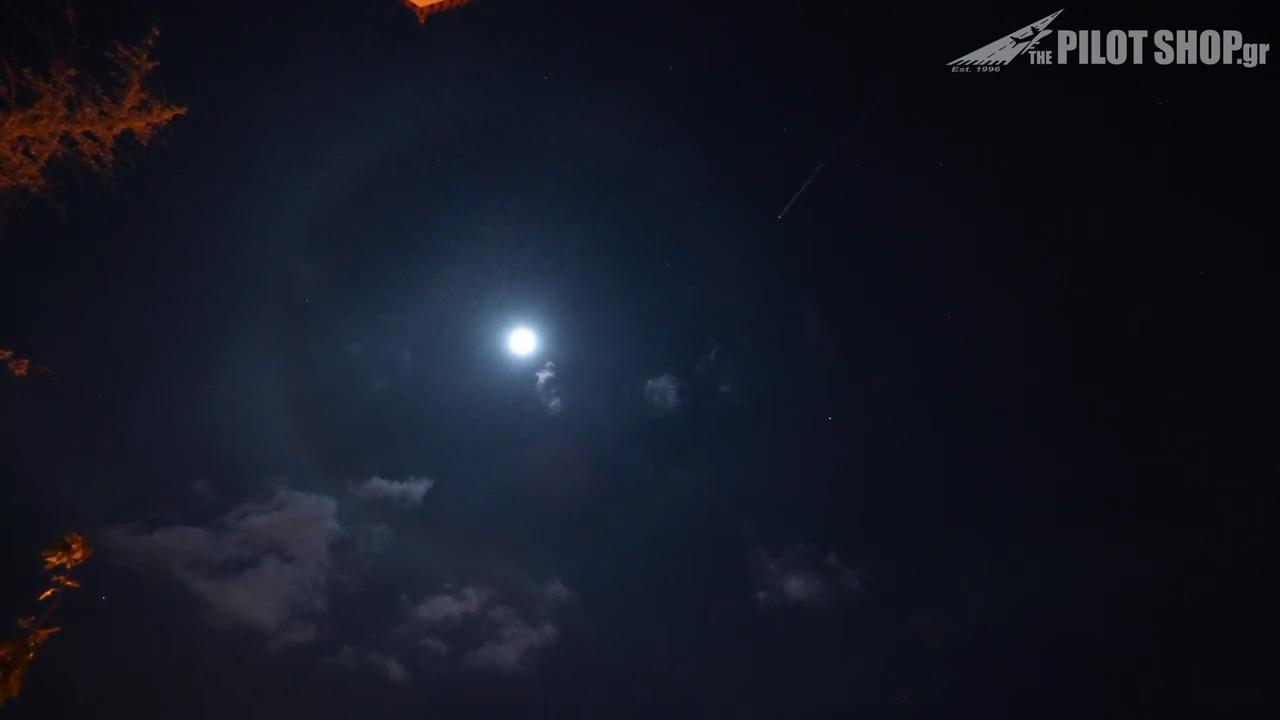Plane: (756, 158, 842, 226)
